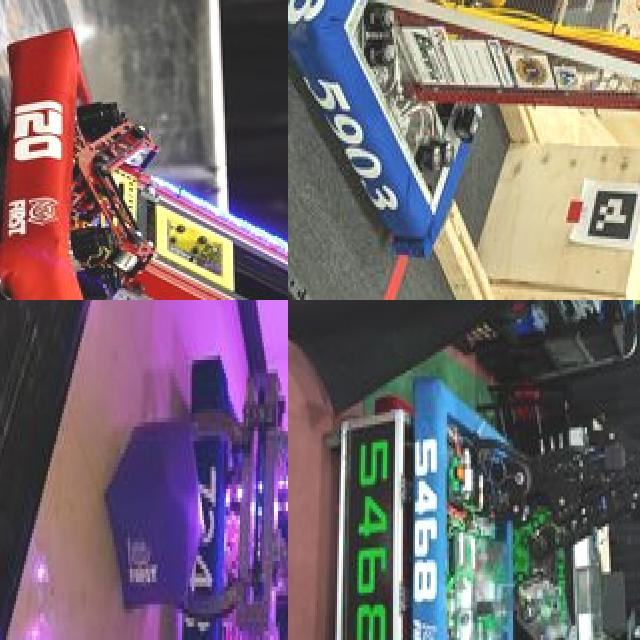FRC-Robots: (288, 0, 640, 270), (0, 69, 288, 300), (419, 349, 640, 640), (156, 300, 288, 640)
